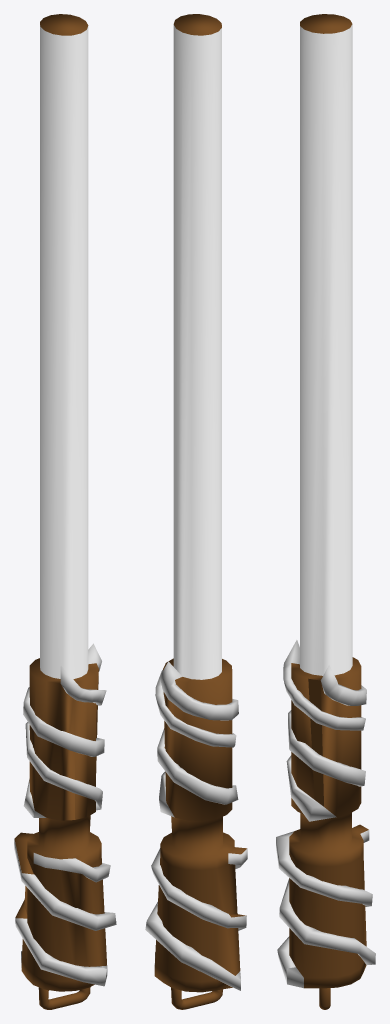
The model's file is sablesLaserViento.fbx.
3 renders of one model, left to right at view 1: azimuth 30°, elevation 25°; view 2: azimuth 210°, elevation 25°; view 3: azimuth 270°, elevation 25°, orthographic.
Parts seen in each view (by area): view 1: Mango.006, Llavero.006; view 2: Mango.006, Llavero.006; view 3: Mango.006.
Part boxes in pixels (x1,y1,x2,y2): Mango.006: (14, 14, 116, 991); Llavero.006: (38, 987, 90, 1009); Mango.006: (145, 14, 247, 992); Llavero.006: (171, 987, 222, 1009); Mango.006: (276, 14, 375, 988).
Bounding box in the file's own units: 255 × 2877 × 266.
